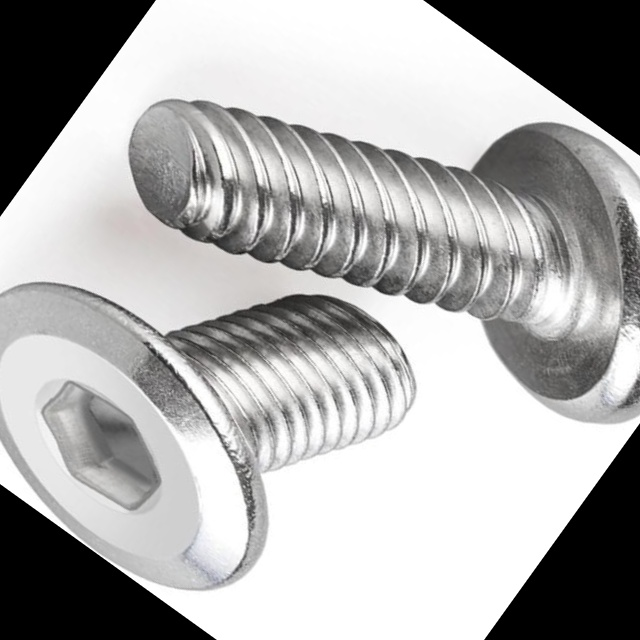allen: (16, 369, 187, 526)
